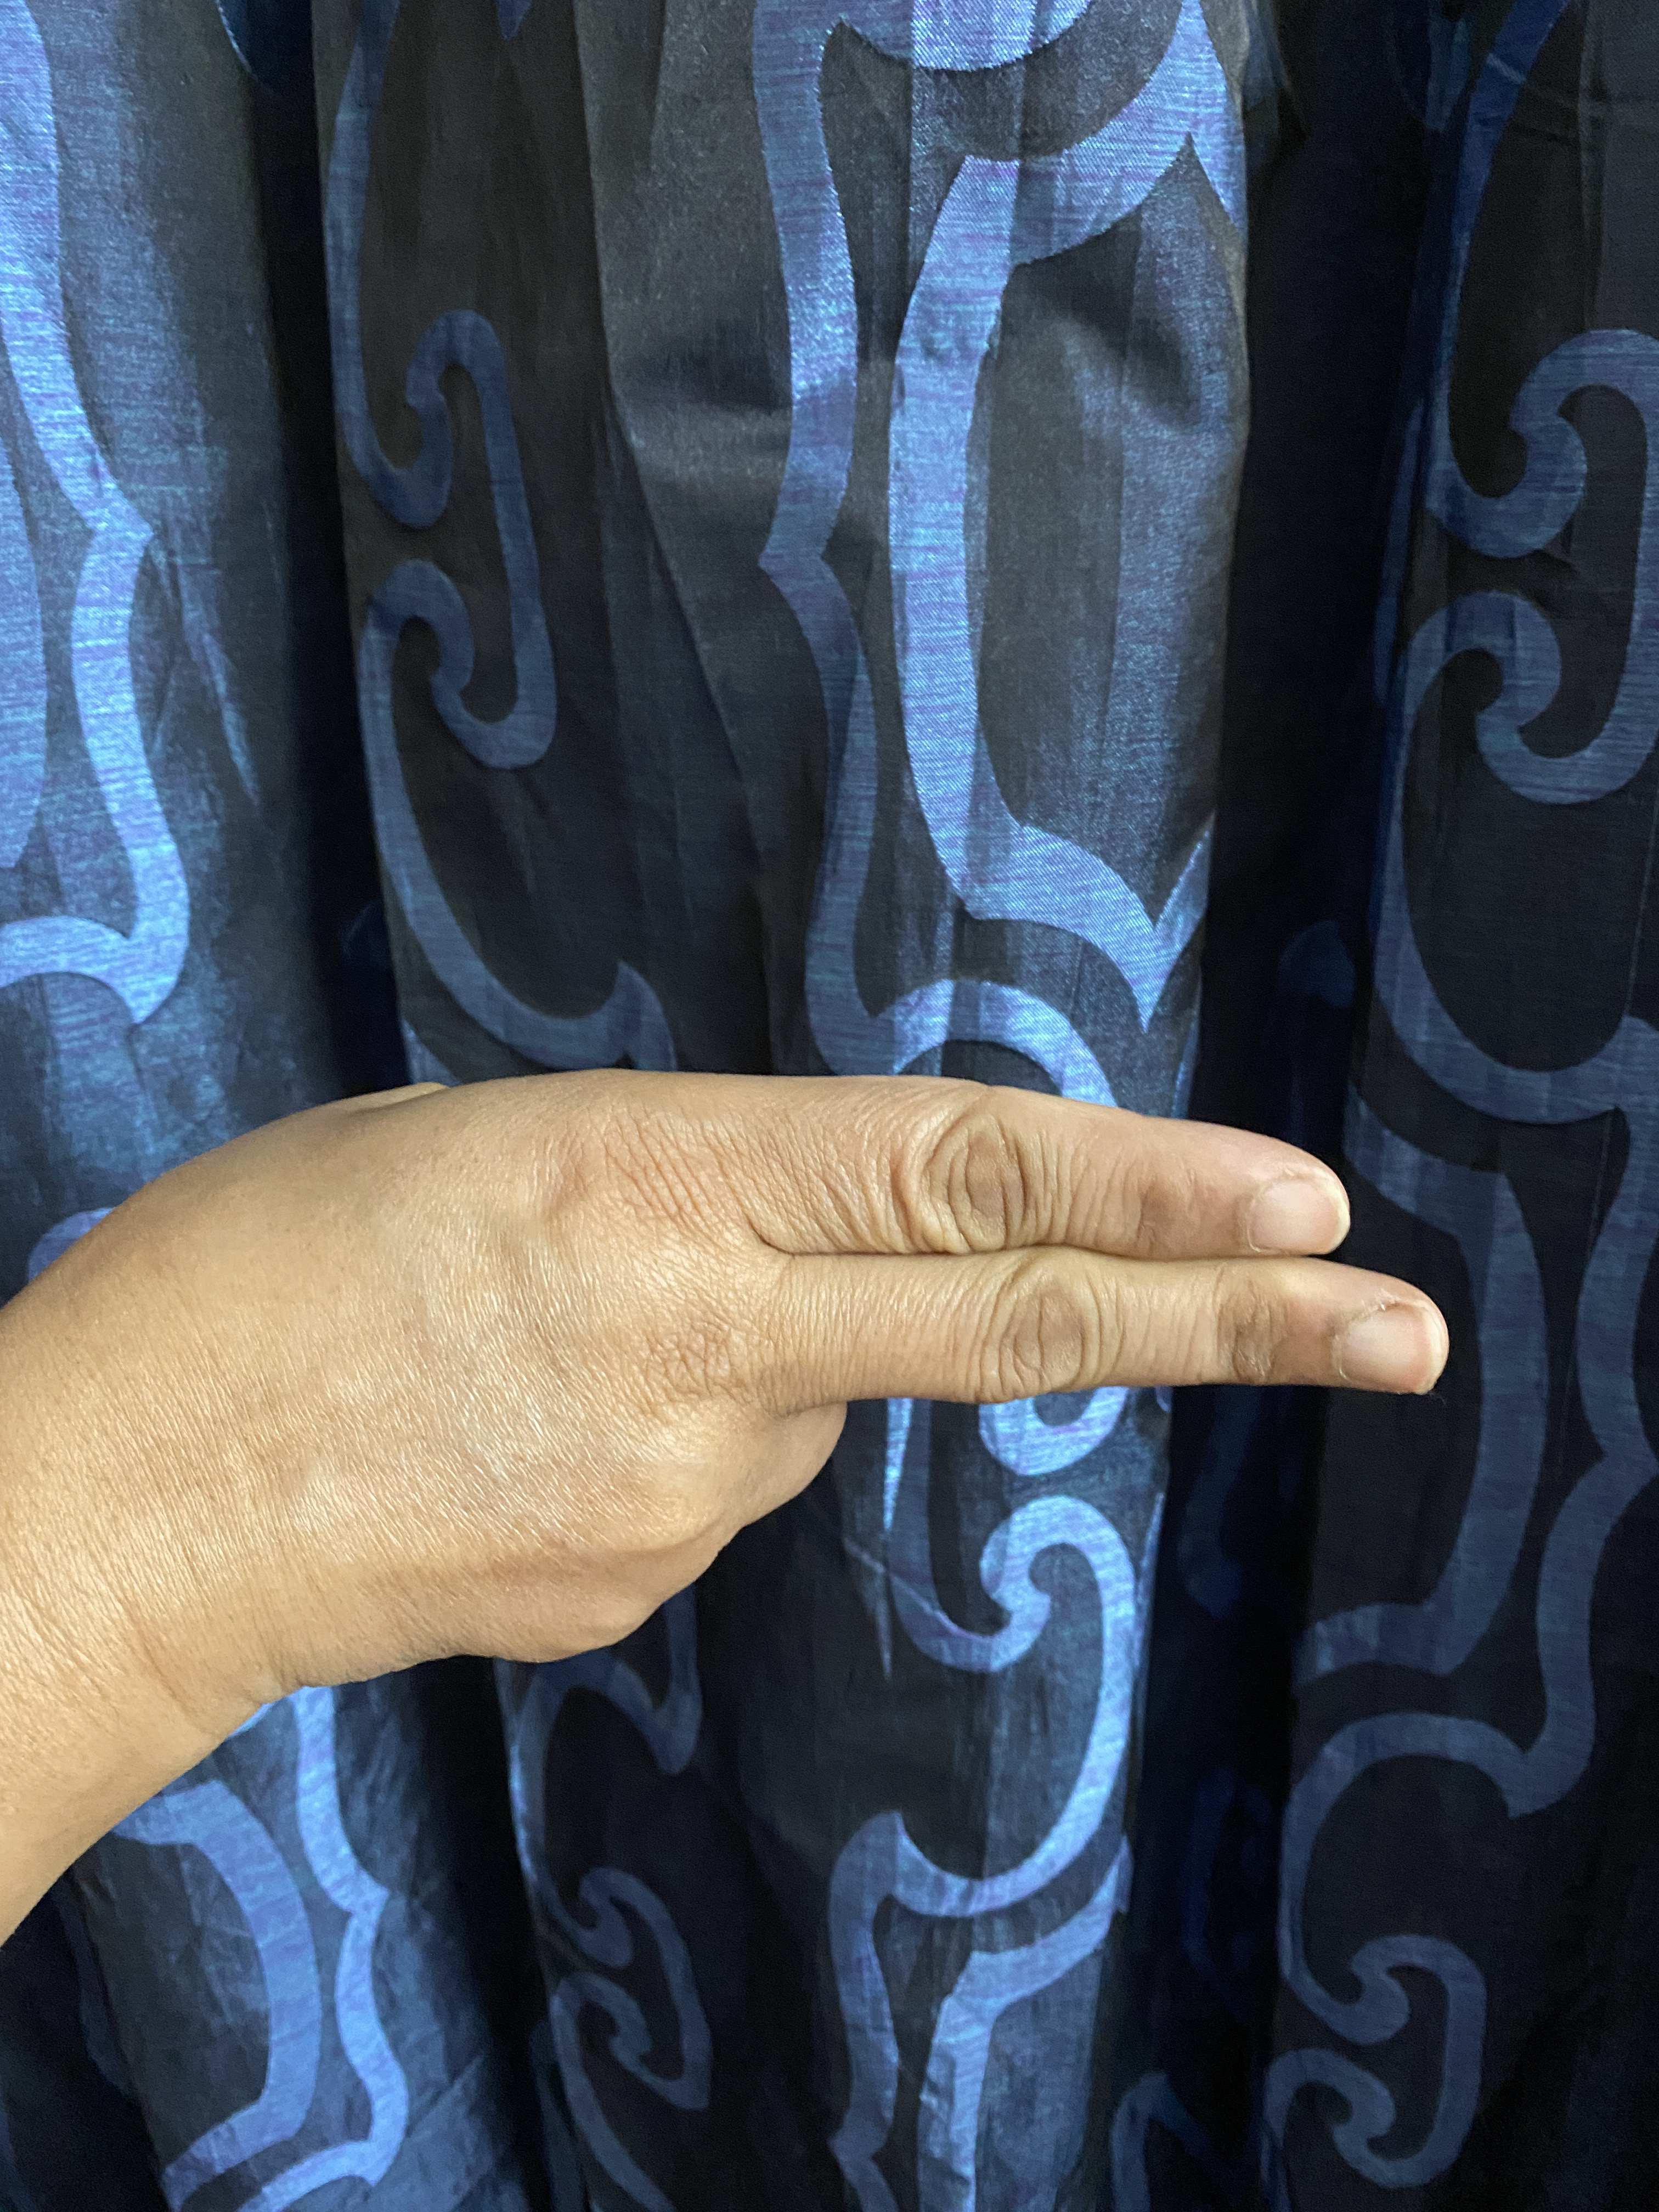left: (12, 1029, 1509, 1937)
